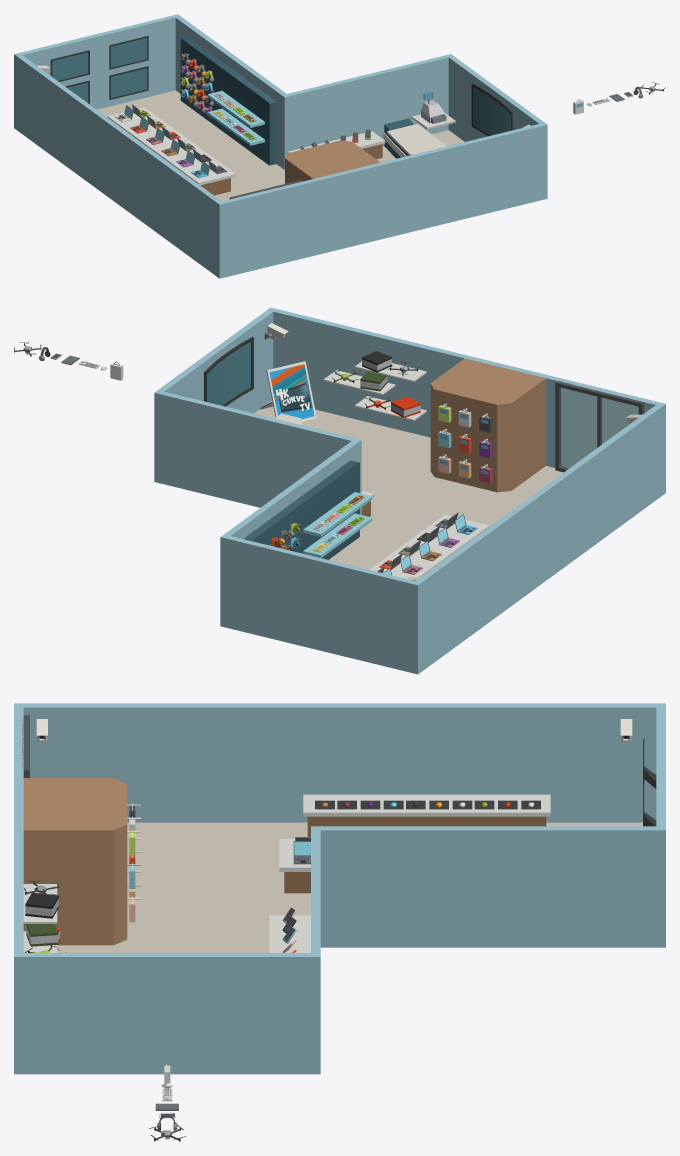
Rendered from TeknolojiMagazasi.fbx.
3 renders of one model, top to bottom at view 1: azimuth 30°, elevation 25°; view 2: azimuth 150°, elevation 25°; view 3: azimuth 270°, elevation 25°, orthographic. The views are drawn at different scales.
Visible parts, largest first — view 1: Cube, KulaklikKlavyeTezgah, LaptopTezgah, TVler, Kasa, CurveTv, TelefonStand; view 2: Cube, KulaklikKlavyeTezgah, Kapi, LaptopTezgah, CurveTv, Afis, Kablolar, Dronelar; view 3: Cube, MouseStand, Dronelar, LaptopTezgah, TelefonStand, Kablolar.
Part boxes in pixels (box(x1,y1,x2,y2)): Cube: box(14, 14, 547, 278); KulaklikKlavyeTezgah: box(180, 37, 276, 165); LaptopTezgah: box(107, 104, 235, 195); TVler: box(50, 36, 148, 104); Kasa: box(383, 91, 455, 158); CurveTv: box(471, 83, 512, 136); TelefonStand: box(287, 129, 385, 159); Cube: box(154, 307, 665, 674); KulaklikKlavyeTezgah: box(244, 460, 372, 559); Kapi: box(555, 380, 644, 472); LaptopTezgah: box(369, 512, 489, 578); CurveTv: box(204, 337, 253, 406); Afis: box(260, 361, 316, 421); Kablolar: box(438, 404, 492, 483); Dronelar: box(331, 351, 420, 417); Cube: box(14, 703, 665, 1074); MouseStand: box(303, 794, 550, 836); Dronelar: box(24, 880, 66, 952); LaptopTezgah: box(279, 837, 310, 893); TelefonStand: box(269, 907, 310, 952); Kablolar: box(129, 803, 135, 922).
Bounding box in the file's own units: 1390 × 200 × 1008.
